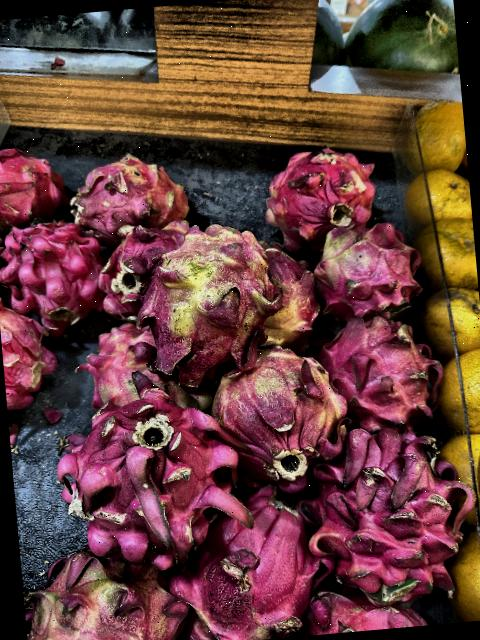buah-naga-belum-matang: (142, 223, 280, 378), (211, 340, 344, 474), (20, 541, 187, 640), (83, 320, 174, 408), (255, 240, 324, 349), (97, 228, 170, 314)
buah-naga-matang: (60, 382, 238, 553), (306, 412, 473, 588), (169, 474, 329, 640), (317, 302, 463, 442), (304, 214, 420, 318), (76, 144, 192, 238), (260, 130, 366, 232), (0, 212, 101, 317), (0, 294, 68, 409), (0, 143, 58, 226)
